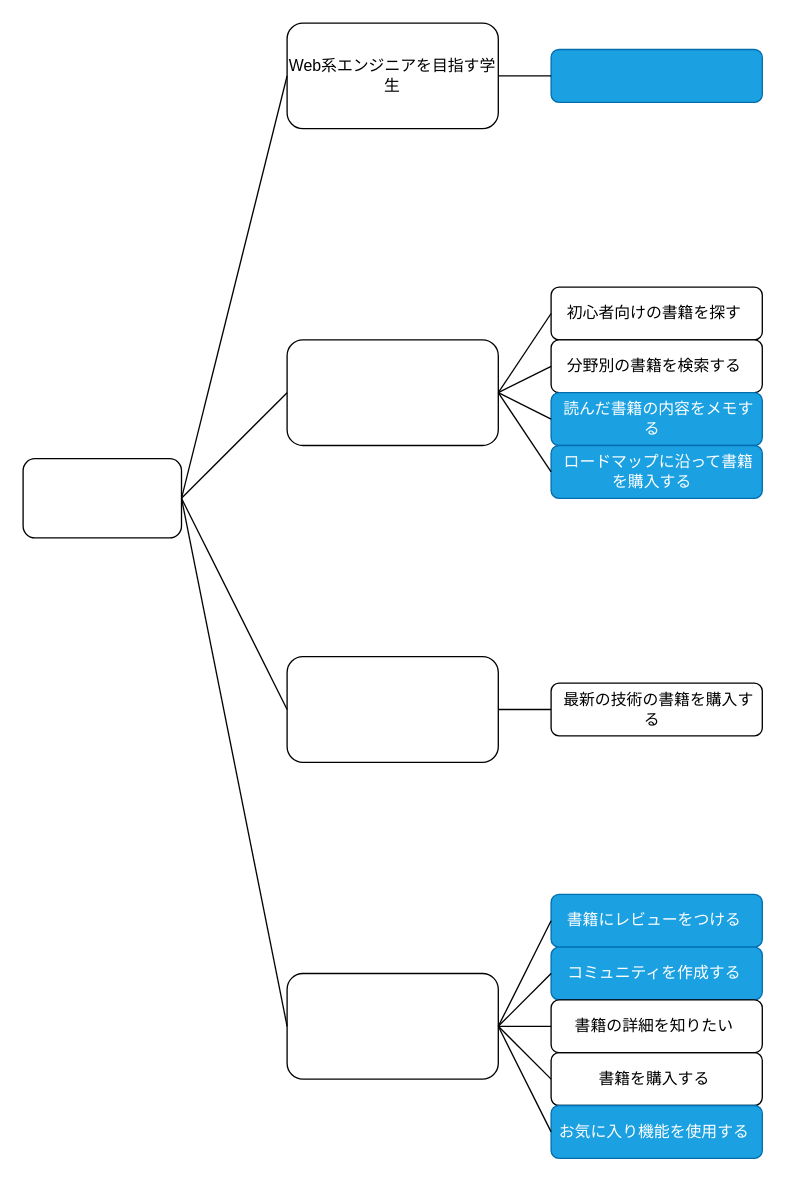
This 785x1181 diagram has some shape labels left out. The centre of each missing label's shape, as x and y in pixels:
Web系エンジニア全般: the point at 392,1025
ベテランのWeb系エンジニア: the point at 392,708
ユーザーストーリー: the point at 102,497
学習の出発点を知りたい: the point at 656,75
駆け出しのWeb系エンジニア: the point at 392,392
